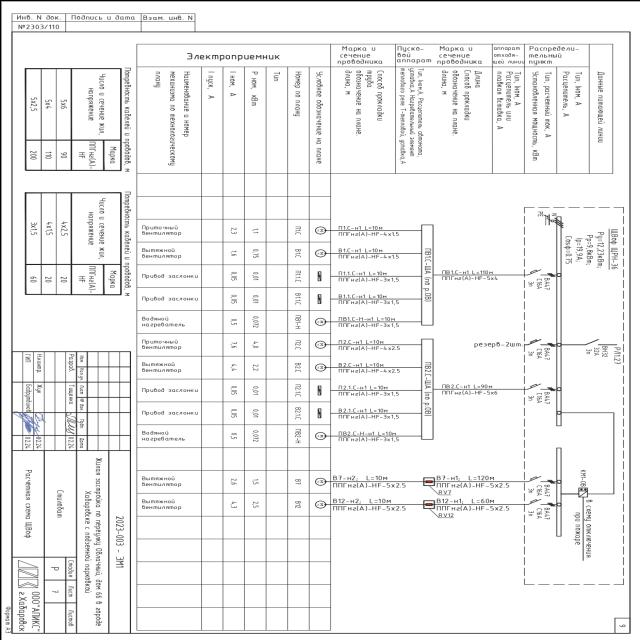-: (607, 227, 617, 270), (525, 482, 550, 497), (583, 344, 608, 358), (525, 276, 550, 290), (525, 346, 550, 360), (525, 390, 550, 404), (525, 506, 550, 520), (578, 468, 587, 487)
KM: (576, 486, 588, 497)
QF: (526, 382, 545, 390), (525, 475, 544, 483), (526, 338, 544, 346), (526, 268, 544, 276), (526, 498, 544, 506)
QS: (582, 338, 602, 346)
